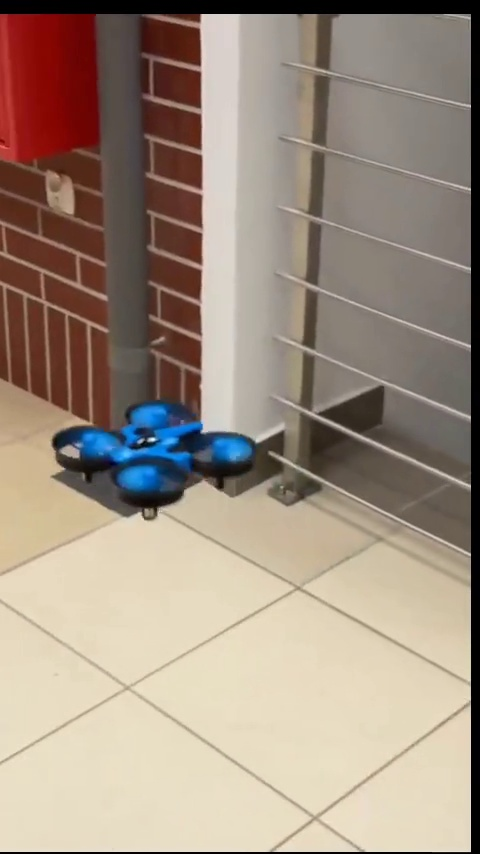drone: (59, 398, 262, 522)
